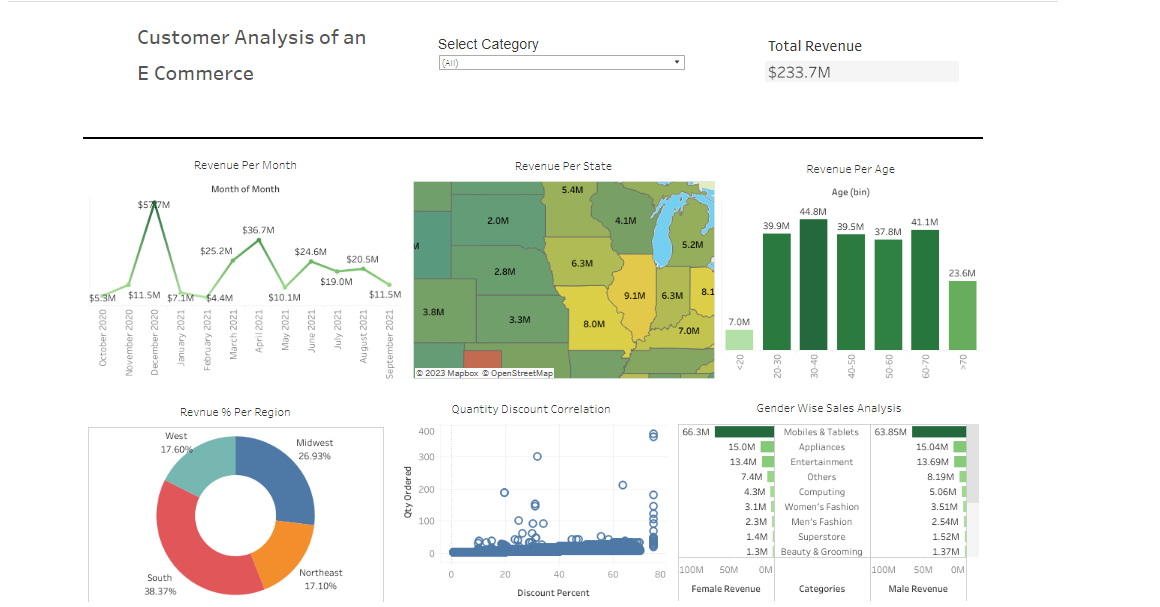

The page's visual inventory and layout, read from the dashboard file:
{"tool":"tableau","page":{"name":"Dashboard 1","canvas":[1200,800],"ordinal":0},"visuals":[{"type":"text","box":[72,18,319,104]},{"type":"worksheet","title":"Revenue","mark":"Automatic","box":[909,37,259,86]},{"type":"filter","title":"Gender Wise Sales Analysis","param":"[federated.0hd41be03p9c3v1bpnude0ahon6t].[none:category:nk]","box":[473,42,330,68]},{"type":"worksheet","title":"Revenue Per Age","mark":"Automatic","rows":["total"],"cols":["Age (bin)"],"box":[850,234,347,270]},{"type":"worksheet","title":"Revenue Per Month","mark":"Automatic","rows":["total"],"cols":["month"],"box":[8,235,417,269]},{"type":"worksheet","title":"Revenue Per State","mark":"Automatic","box":[440,236,402,267]},{"type":"worksheet","title":"Gender Wise Sales Analysis","mark":"Automatic","rows":["category"],"cols":["Calculation_393502052973027331","Calculation_393502052971491329","Calculation_393502052973297668"],"box":[793,525,405,273]},{"type":"worksheet","title":"Quantity Discount Correlation","mark":"Automatic","rows":["qty_ordered"],"cols":["Discount_Percent"],"box":[416,526,363,277]},{"type":"worksheet","title":"Revenue % Per Region","mark":"Pie","rows":["Calculation_393502052971491329","Calculation_393502052971491329"],"box":[6,530,395,274]}]}

Visuals, with their boxes on the page's 1200x800 design canvas (x1, y1, x2, y2). These are canvas units, not pixel positions in the 1160x607 screenshot, which may show the page scaled, cropped or inside an application window:
text: 72 18 391 122
"Revenue" worksheet: 909 37 1168 123
"Gender Wise Sales Analysis" filter: 473 42 803 110
"Revenue Per Age" worksheet: 850 234 1197 504
"Revenue Per Month" worksheet: 8 235 425 504
"Revenue Per State" worksheet: 440 236 842 503
"Gender Wise Sales Analysis" worksheet: 793 525 1198 798
"Quantity Discount Correlation" worksheet: 416 526 779 803
"Revenue % Per Region" worksheet (Pie marks): 6 530 401 804
